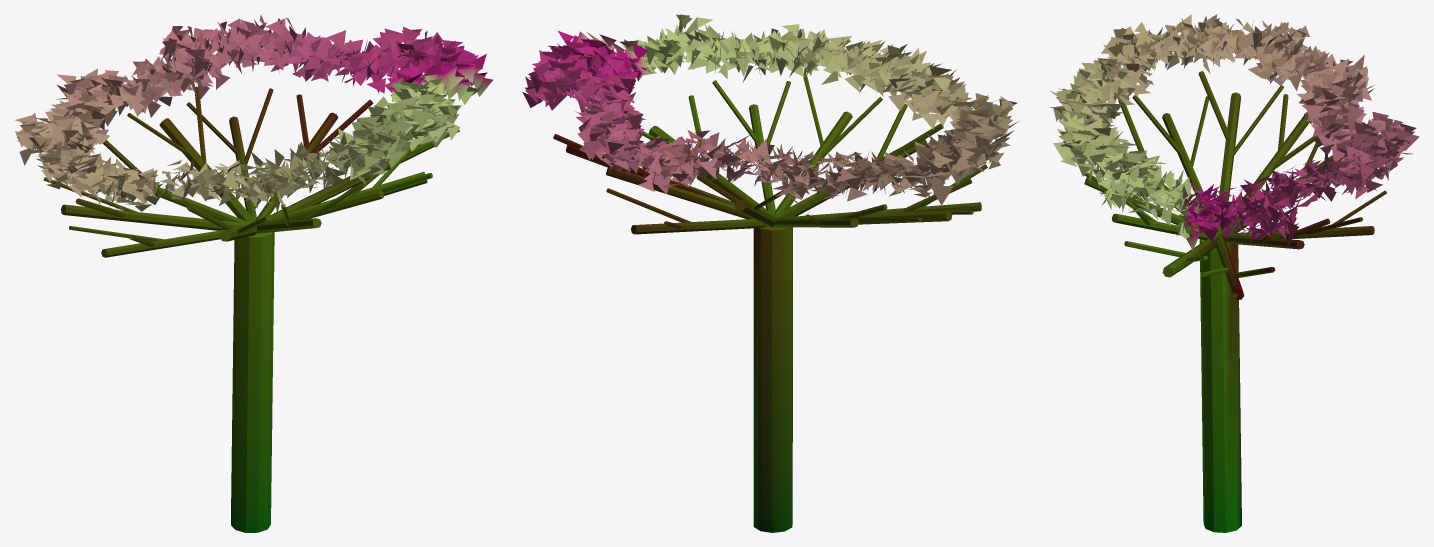
Rendered from ecological_savanna_old_02.glb.
3 views of the same model, side by side, from view 1: azimuth 30°, elevation 25°; view 2: azimuth 150°, elevation 25°; view 3: azimuth 270°, elevation 25° (orthographic). The views are drawn at different scales.
Parts seen in each view (by area): view 1: ecological_savanna_old_02; view 2: ecological_savanna_old_02; view 3: ecological_savanna_old_02.
Boxes of the visible parts, x1,y1,x2,y2 form: ecological_savanna_old_02: (15, 14, 492, 532); ecological_savanna_old_02: (522, 14, 1018, 532); ecological_savanna_old_02: (1050, 14, 1419, 532).
Bounding box in the file's own units: 28.31 × 26.41 × 21.28.
